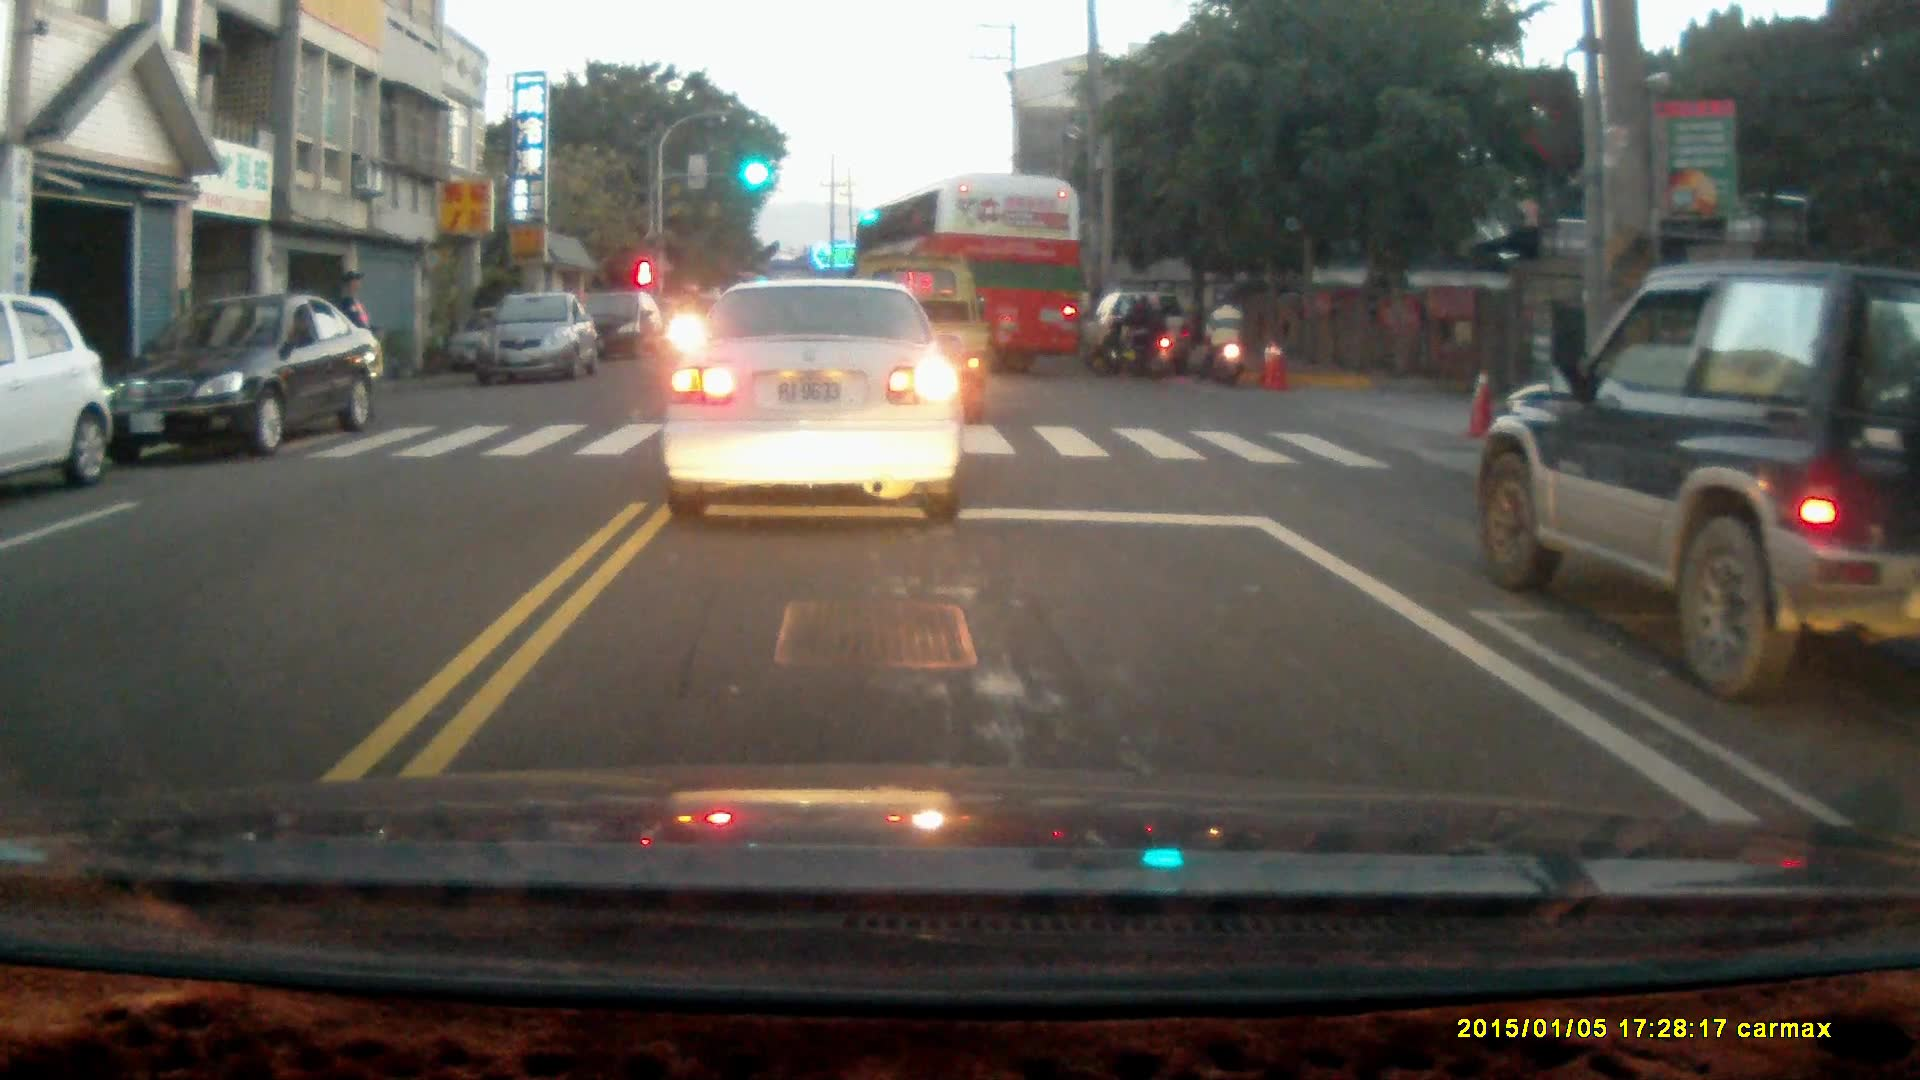pedestrian: (333, 269, 375, 414)
rider: (1091, 291, 1171, 379), (664, 280, 718, 382), (1192, 290, 1245, 389)
vehicle: (1478, 261, 1920, 701), (666, 278, 965, 525), (98, 296, 388, 466), (851, 171, 1085, 379), (1, 291, 115, 492), (464, 293, 604, 388), (1093, 290, 1211, 381), (577, 296, 668, 369)
